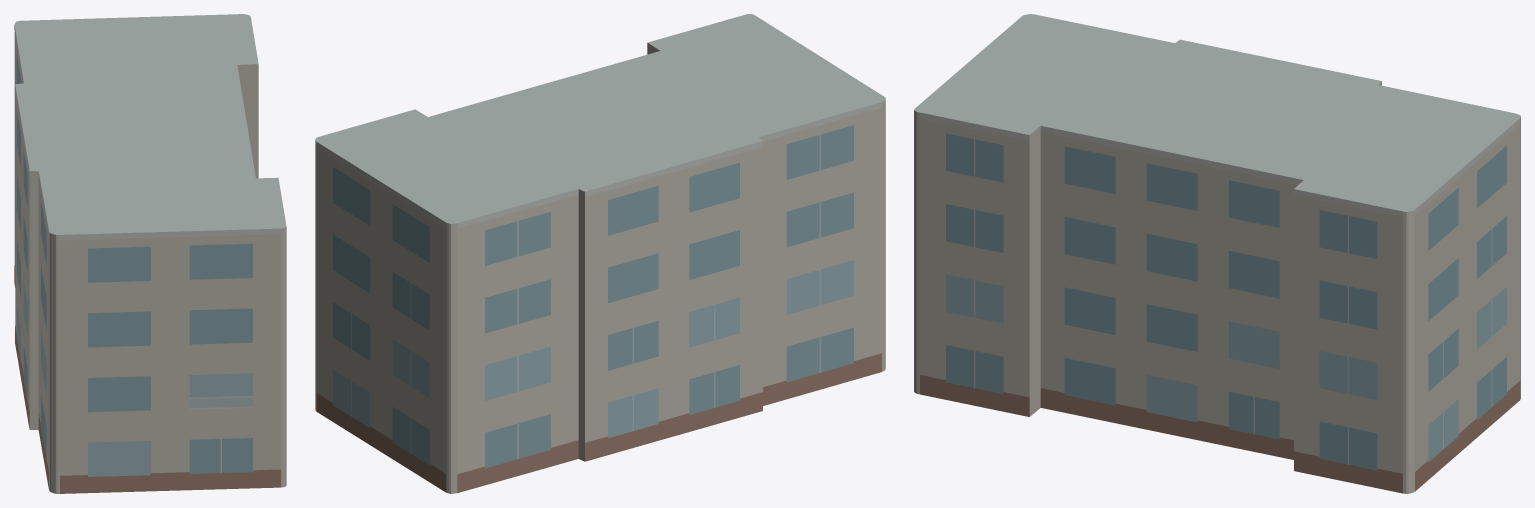
Rendered from survey-upis-32524800.glb.
The picture shows the model from 3 angles, left to right: view 1: azimuth 30°, elevation 25°; view 2: azimuth 150°, elevation 25°; view 3: azimuth 270°, elevation 25°; orthographic projection. The views are drawn at different scales.
Parts seen in each view (by area): view 1: survey-upis-32524800.tmp; view 2: survey-upis-32524800.tmp; view 3: survey-upis-32524800.tmp.
Part boxes in pixels (bbox=[...]): survey-upis-32524800.tmp: bbox=[14, 14, 286, 493]; survey-upis-32524800.tmp: bbox=[315, 14, 885, 493]; survey-upis-32524800.tmp: bbox=[914, 14, 1520, 493].
Bounding box in the file's own units: 17.32 × 11.5 × 22.43.
